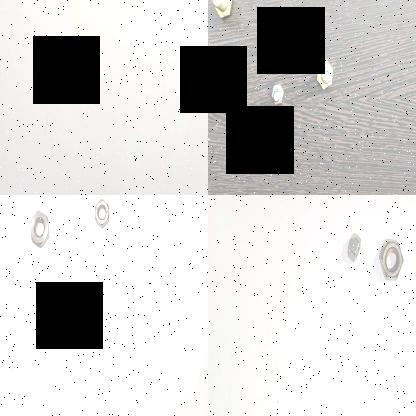Bolts: (216, 84, 240, 118), (314, 52, 334, 92), (210, 0, 236, 24), (267, 80, 283, 112), (270, 11, 282, 34)
NUTS: (374, 218, 408, 288), (337, 228, 365, 280), (26, 208, 52, 251), (90, 197, 109, 227)
